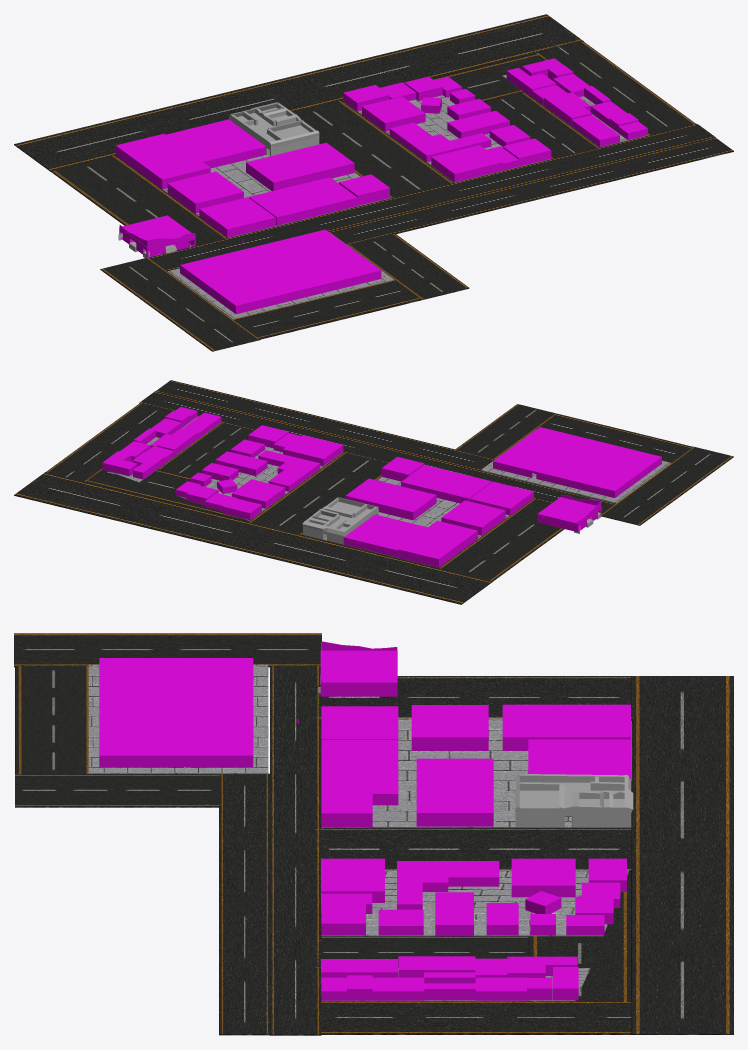
File: Nivel1Proto.fbx
3 renders of one model, top to bottom at view 1: azimuth 30°, elevation 25°; view 2: azimuth 150°, elevation 25°; view 3: azimuth 270°, elevation 25°, orthographic. The views are drawn at different scales.
Parts seen in each view (by area): view 1: pCube14, pCube2, pCube64, pCube10, pCube4, pCube16, pCube12, pCube8, pCube13, pCube11, pCube30, pCube6 (+26 smaller); view 2: pCube14, pCube64, pCube10, pCube2, pCube16, pCube4, pCube12, pCube8, pCube11, pCube13, pCube28, pCube30 (+26 smaller); view 3: pCube14, pCube2, pCube64, pCube10, pCube4, pCube8, pCube12, pCube16, pCube13, pCube11, Sector_A___Tuto, pCube15 (+37 smaller).
Part boxes in pixels (left/top/right/bottom): pCube14: left=14, top=14, right=583, bottom=171; pCube2: left=149, top=124, right=715, bottom=271; pCube64: left=180, top=229, right=381, bottom=314; pCube10: left=329, top=137, right=733, bottom=244; pCube4: left=293, top=100, right=453, bottom=198; pCube16: left=51, top=155, right=227, bottom=253; pCube12: left=100, top=257, right=260, bottom=351; pCube8: left=536, top=29, right=695, bottom=135; pCube13: left=233, top=280, right=420, bottom=339; pCube11: left=347, top=233, right=469, bottom=300; pCube30: left=246, top=142, right=354, bottom=190; pCube6: left=484, top=91, right=600, bottom=159; pCube14: left=14, top=472, right=492, bottom=604; pCube64: left=493, top=427, right=661, bottom=497; pCube10: left=155, top=380, right=494, bottom=470; pCube2: left=139, top=391, right=614, bottom=513; pCube16: left=439, top=499, right=564, bottom=581; pCube4: left=248, top=452, right=387, bottom=535; pCube12: left=601, top=446, right=733, bottom=525; pCube8: left=31, top=403, right=173, bottom=492; pCube11: left=455, top=404, right=557, bottom=459; pCube13: left=540, top=414, right=692, bottom=462; pCube28: left=398, top=521, right=477, bottom=567; pCube30: left=345, top=478, right=436, bottom=520; pCube14: left=631, top=676, right=733, bottom=1034; pCube2: left=270, top=665, right=321, bottom=1035; pCube64: left=99, top=658, right=253, bottom=766; pCube10: left=219, top=773, right=270, bottom=1035; pCube4: left=316, top=827, right=631, bottom=871; pCube8: left=321, top=1001, right=678, bottom=1034; pCube12: left=14, top=633, right=321, bottom=667; pCube16: left=315, top=676, right=633, bottom=720; pCube13: left=15, top=665, right=88, bottom=773; pCube11: left=15, top=774, right=220, bottom=807; Sector_A___Tuto: left=321, top=718, right=571, bottom=827; pCube15: left=528, top=871, right=631, bottom=1001.
Size of the model in its own units: 3695 by 119 by 2804.
8 materials, 2 textured.
